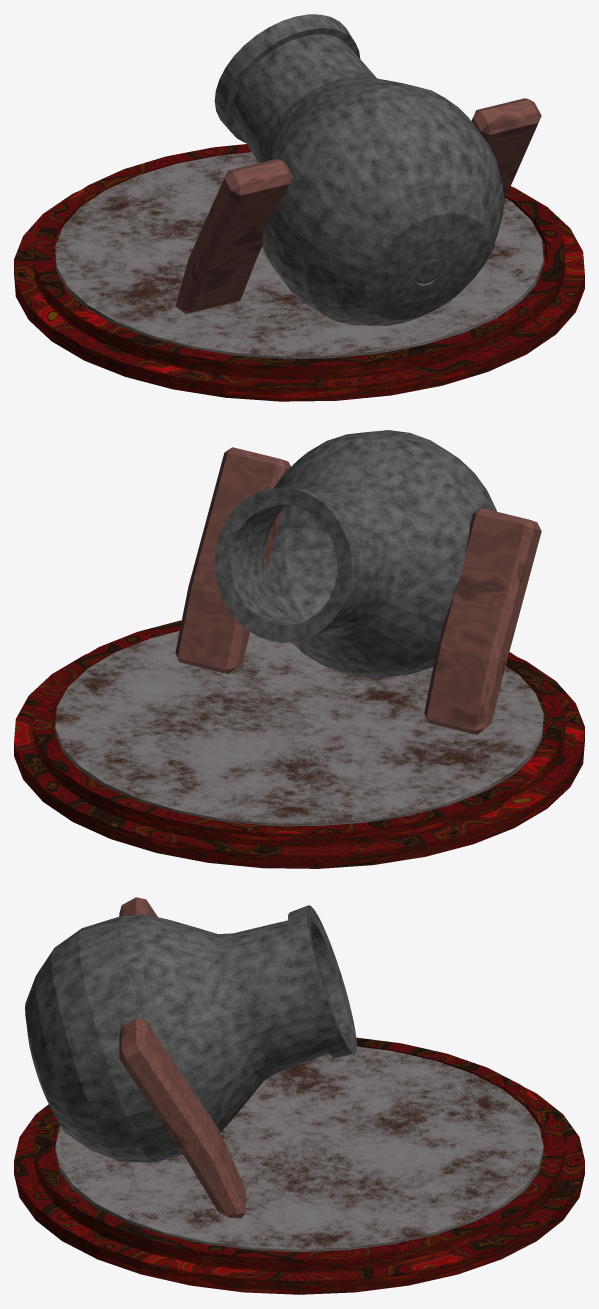
File: CannonTower 1.fbx
The picture shows the model from 3 angles, top to bottom: view 1: azimuth 30°, elevation 25°; view 2: azimuth 150°, elevation 25°; view 3: azimuth 270°, elevation 25°; orthographic projection.
Parts seen in each view (by area): view 1: Cannon_head, Da_moving_part, Base, Support; view 2: Da_moving_part, Cannon_head, Base, Support; view 3: Da_moving_part, Cannon_head, Base, Support.
Part boxes in pixels (x1=…): Cannon_head: x1=214, y1=14, x2=504, y2=325; Da_moving_part: x1=55, y1=152, x2=543, y2=358; Base: x1=14, y1=144, x2=584, y2=401; Support: x1=175, y1=98, x2=541, y2=314; Da_moving_part: x1=55, y1=631, x2=543, y2=826; Cannon_head: x1=214, y1=430, x2=496, y2=678; Base: x1=14, y1=620, x2=584, y2=868; Support: x1=175, y1=447, x2=541, y2=734; Da_moving_part: x1=55, y1=1046, x2=543, y2=1251; Cannon_head: x1=25, y1=905, x2=356, y2=1162; Base: x1=14, y1=1037, x2=584, y2=1294; Support: x1=119, y1=897, x2=245, y2=1218.
Bounding box in the file's own units: 1130 × 570 × 1130.
4 materials, 4 textured.
